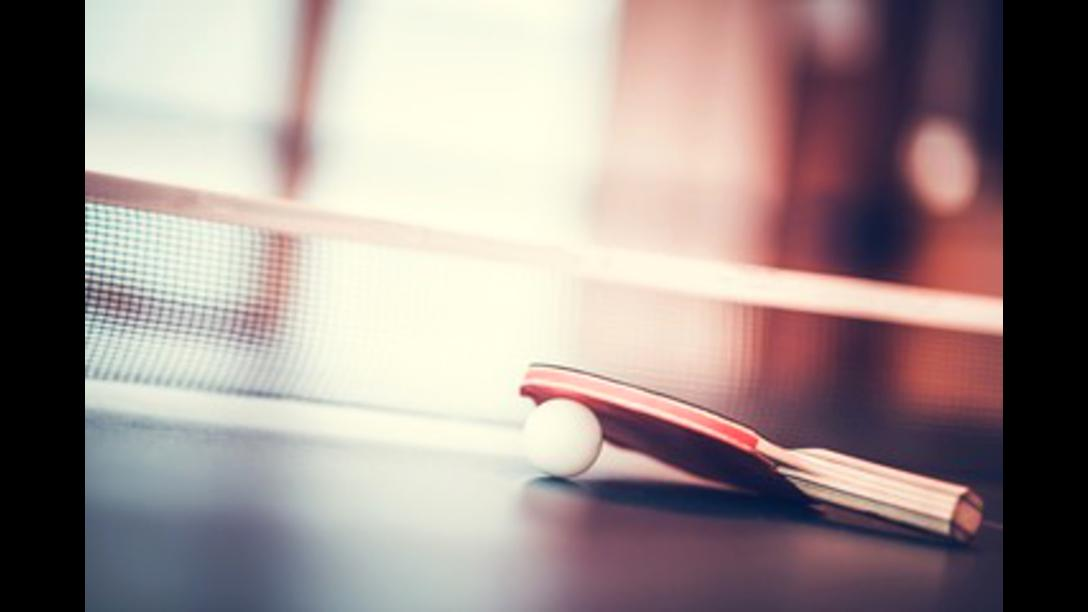Table-Tennis-Ball: (522, 396, 602, 476)
